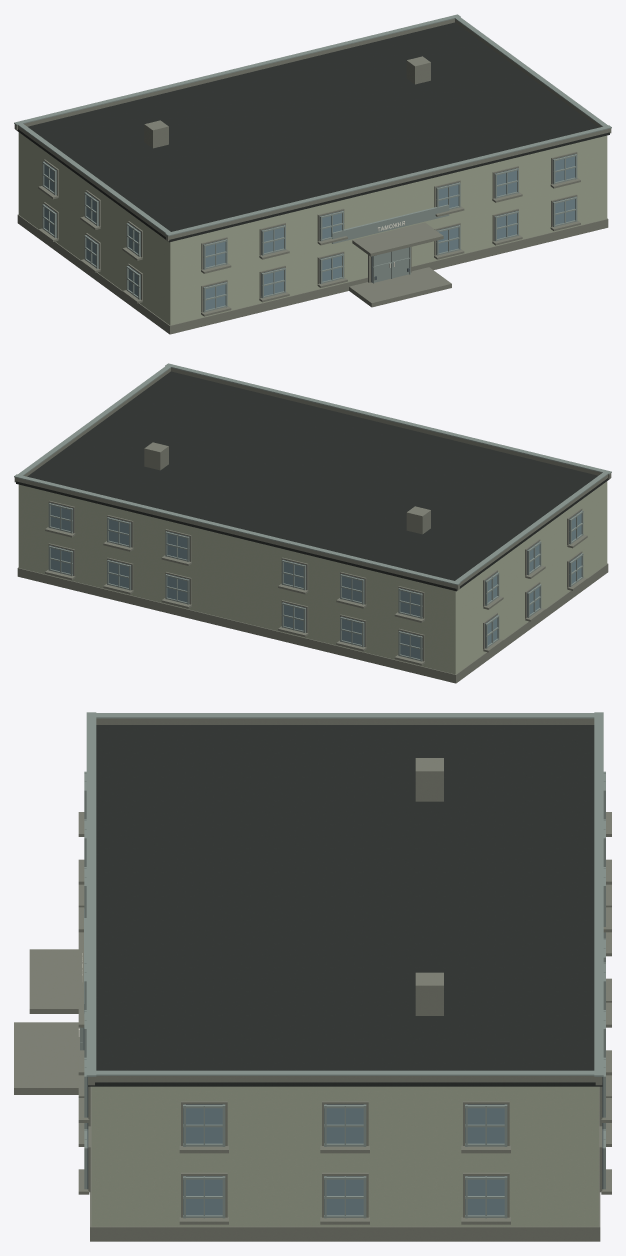
File: customs_office.glb
The picture shows the model from 3 angles, top to bottom: view 1: azimuth 30°, elevation 25°; view 2: azimuth 150°, elevation 25°; view 3: azimuth 270°, elevation 25°; orthographic projection. The views are drawn at different scales.
Parts seen in each view (by area): view 1: customs_office; view 2: customs_office; view 3: customs_office.
Boxes of the visible parts, x1,y1,x2,y2 form: customs_office: (14,14,611,334); customs_office: (14,363,611,683); customs_office: (14,712,611,1241).
Bounding box in the file's own units: 30.92 × 7.51 × 21.21.
Materials: 7 (3 with a texture image).
